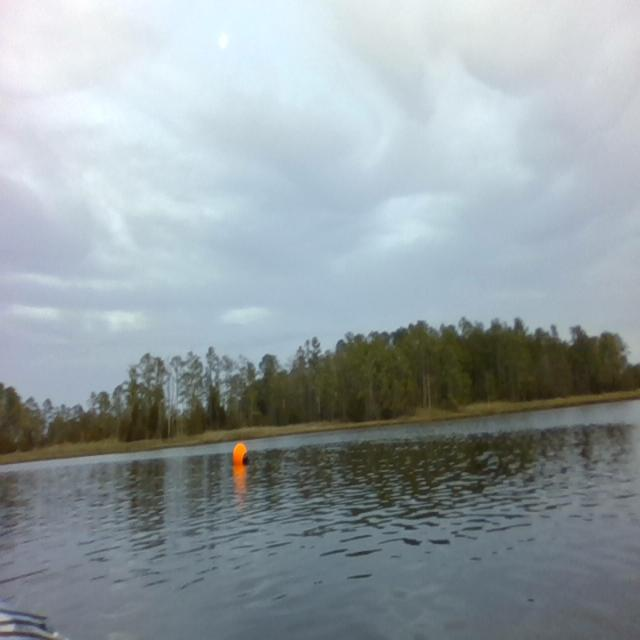Buoy: (229, 439, 253, 469)
